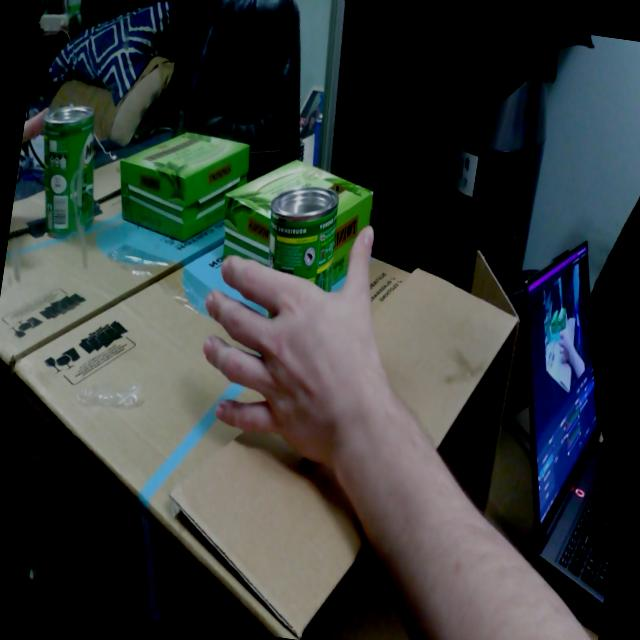nestle_milo_tin: (269, 187, 339, 292), (268, 312, 272, 318)
twinings_greentea_box: (222, 160, 373, 286)
